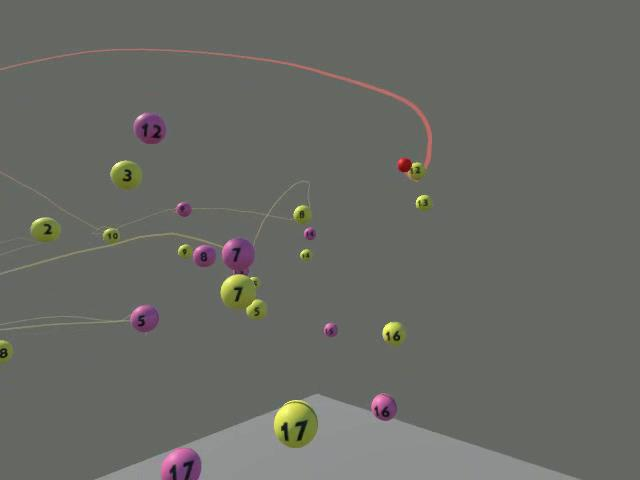ball_02_yellow: (29, 216, 60, 242)
ball_03_yellow: (110, 160, 143, 190)
ball_05_pink: (129, 304, 158, 332)
ball_05_yellow: (245, 298, 267, 319)
ball_07_pink: (221, 237, 255, 271)
ball_07_yellow: (219, 273, 256, 309)
ball_08_pink: (192, 244, 215, 267)
ball_08_yellow: (292, 204, 311, 224)
ball_09_pink: (175, 201, 191, 217)
ball_09_yellow: (177, 244, 192, 259)
ball_10_yellow: (103, 228, 120, 244)
ball_12_pink: (133, 112, 166, 144)
ball_12_yellow: (408, 161, 426, 180)
ball_14_pink: (303, 227, 317, 241)
ball_14_yellow: (299, 249, 312, 262)
ball_15_pink: (323, 322, 337, 337)
ball_16_pink: (370, 392, 396, 421)
ball_16_yellow: (381, 321, 406, 345)
ball_17_pink: (160, 447, 201, 479)
ball_17_yellow: (273, 399, 317, 448)
ball_18_yellow: (415, 191, 432, 207)
ball_unknown: (0, 339, 13, 363), (231, 267, 249, 276), (249, 274, 260, 287)
user_cursor: (397, 157, 411, 172)
